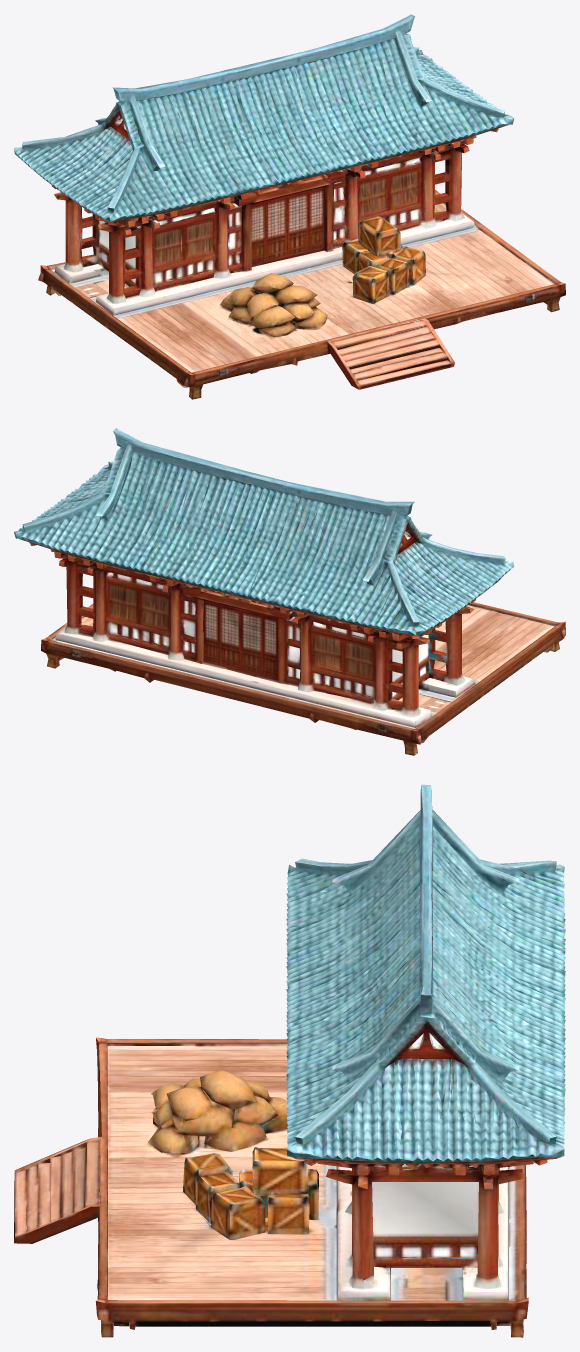
The model's file is qm_warehouse_lo.glb.
The picture shows the model from 3 angles, top to bottom: view 1: azimuth 30°, elevation 25°; view 2: azimuth 150°, elevation 25°; view 3: azimuth 270°, elevation 25°; orthographic projection. The views are drawn at different scales.
Parts seen in each view (by area): view 1: qm_warehouse; view 2: qm_warehouse; view 3: qm_warehouse.
Boxes of the visible parts, x1,y1,x2,y2 form: qm_warehouse: [14, 14, 565, 399]; qm_warehouse: [14, 428, 565, 755]; qm_warehouse: [14, 784, 565, 1337].
Size of the model in its own units: 13.5 by 6.96 by 10.86.
1 material, 1 textured.
